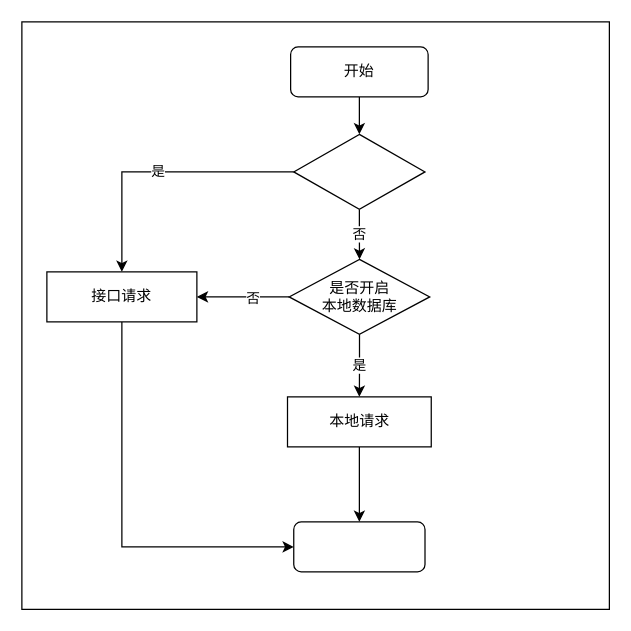
This 631x631 diagram has some shape labels left out. The centre of each missing label's shape, as x and y in pixels:
是否同步中: [358,171]
结束: [358,546]
